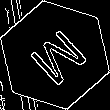M_SE: (20, 21, 90, 89)
